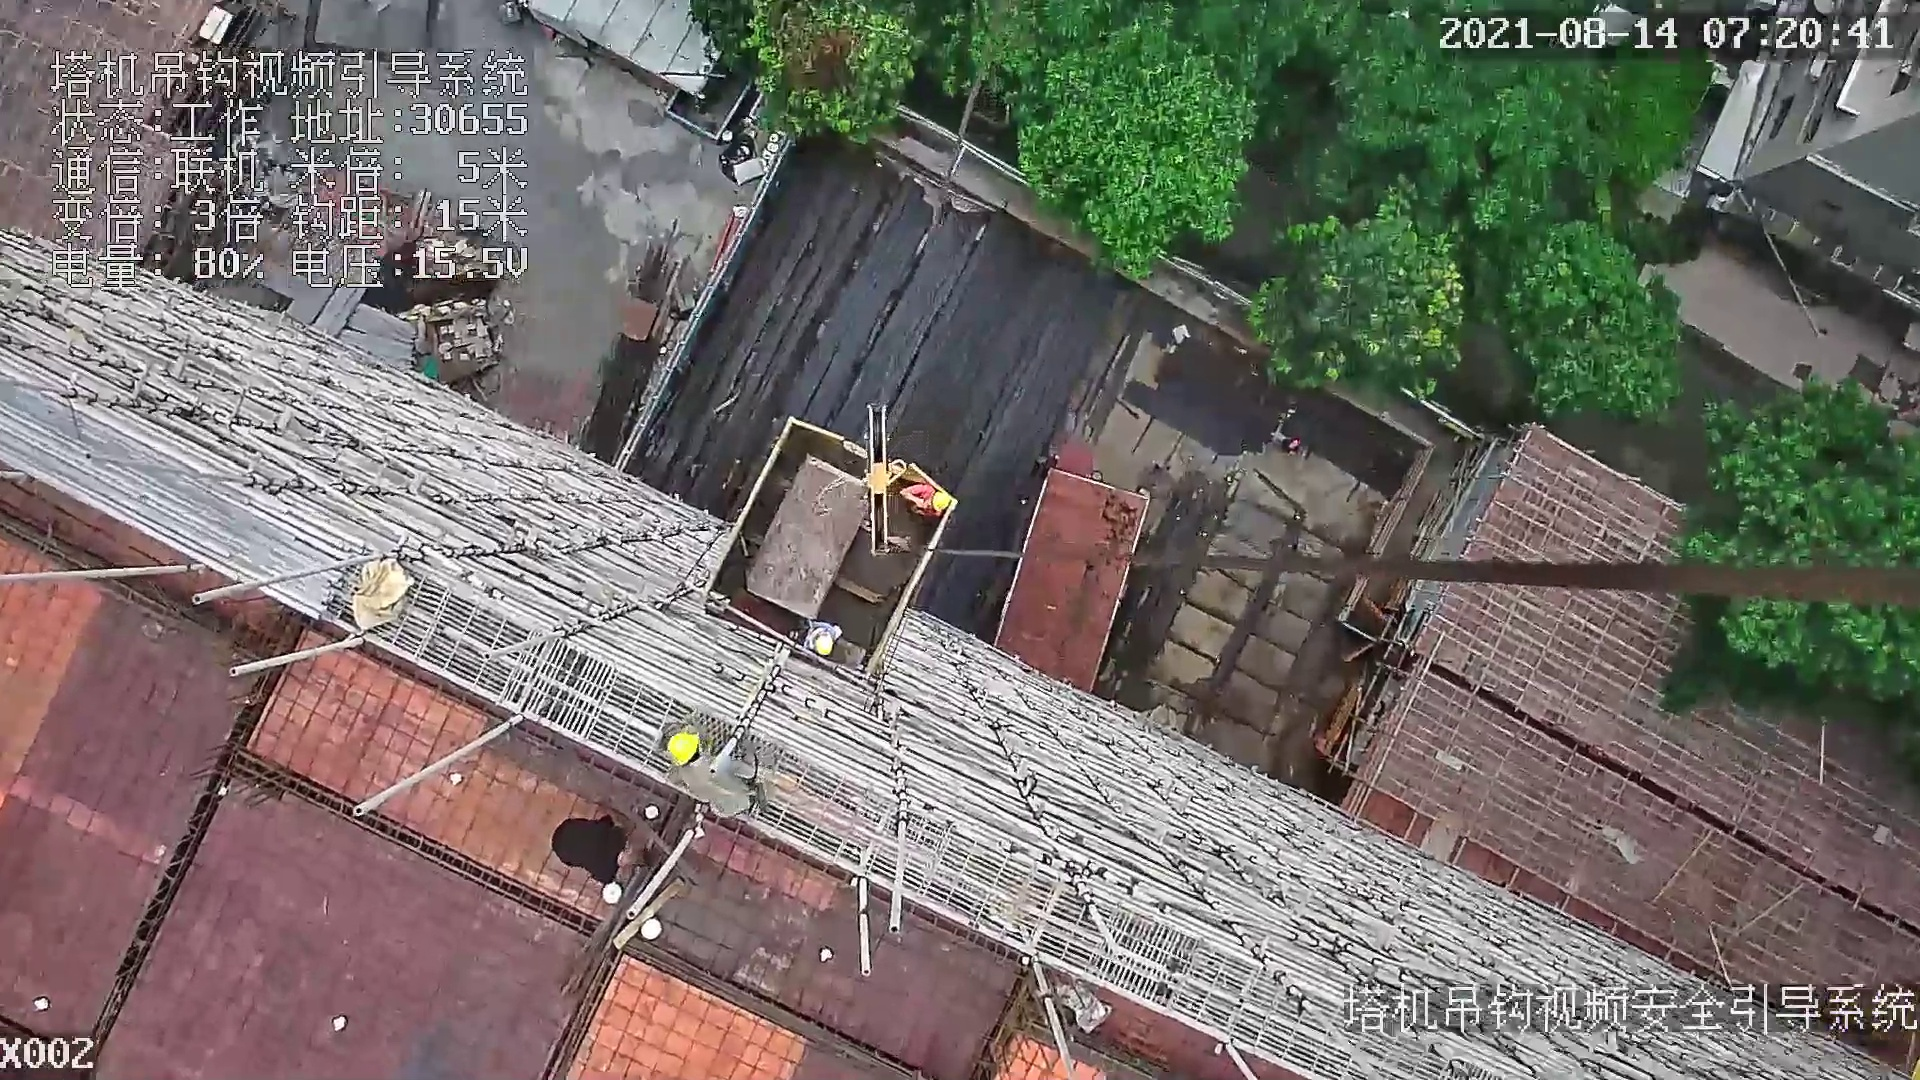helmet: (666, 731, 703, 770), (931, 489, 950, 512), (812, 637, 836, 654)
hook: (864, 406, 905, 562)
person: (667, 732, 767, 836), (551, 809, 651, 901), (905, 483, 957, 523), (810, 623, 854, 653)
